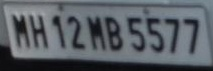character: (27, 12, 48, 50), (10, 12, 31, 49), (85, 14, 106, 51), (145, 16, 165, 53), (65, 14, 86, 49), (104, 14, 123, 51), (126, 16, 146, 51), (163, 17, 180, 55), (183, 17, 198, 54), (50, 14, 66, 48)
